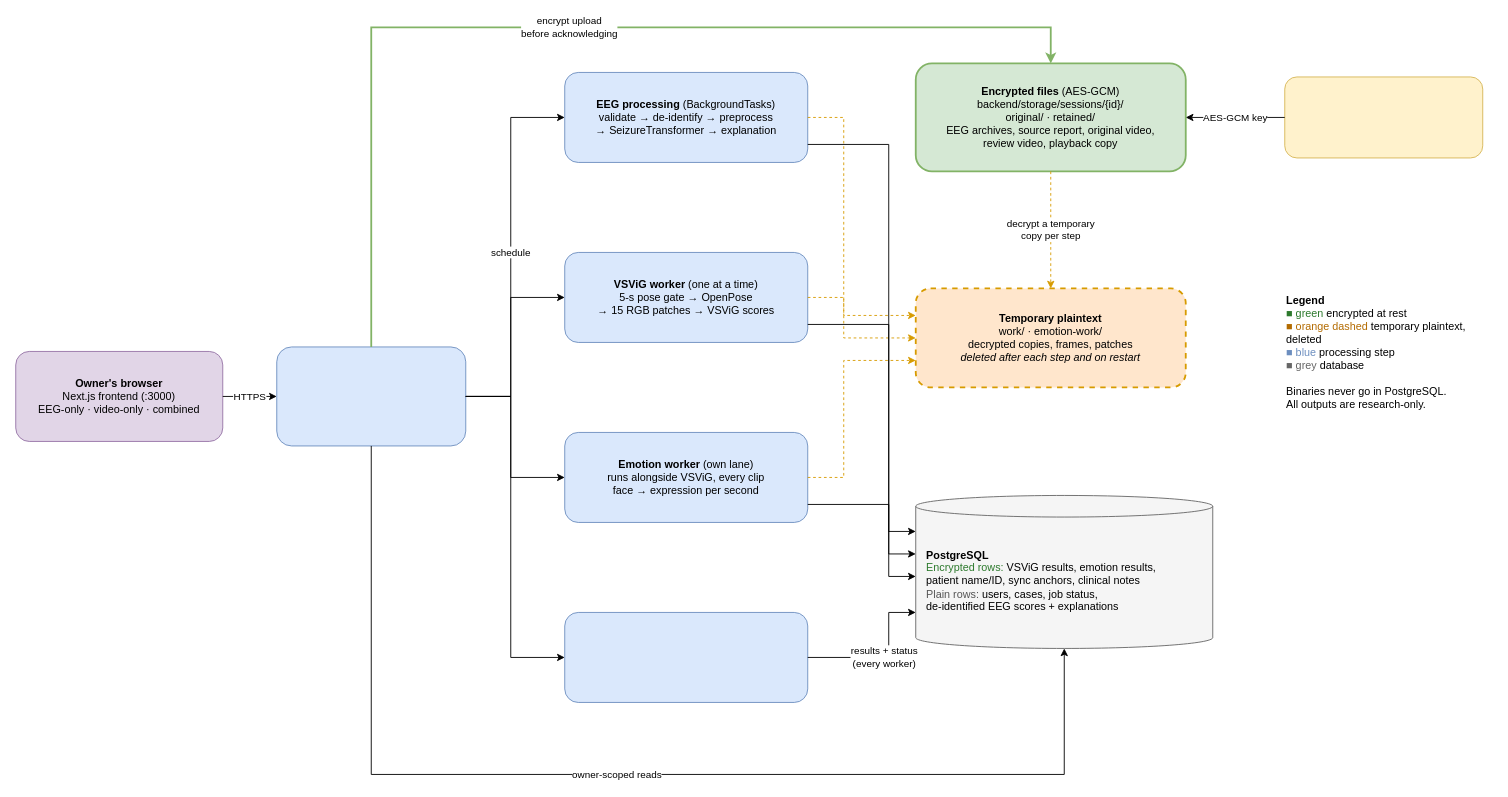
This 1508x797 diagram has some shape labels left out. Each missing label, with the centre of its shape:
"FastAPI backend (:8000) sign-in · owner-only routes private, no-store responses" goes at point (371, 396).
"Keys MDS01_STORAGE_KEY · MDS01_TEMPLATE_KEY in .env outside Git and backups" goes at point (1383, 117).
"VEEG reference workers clock/format probe · EEG sync H.264 copy only when opened" goes at point (686, 657).
